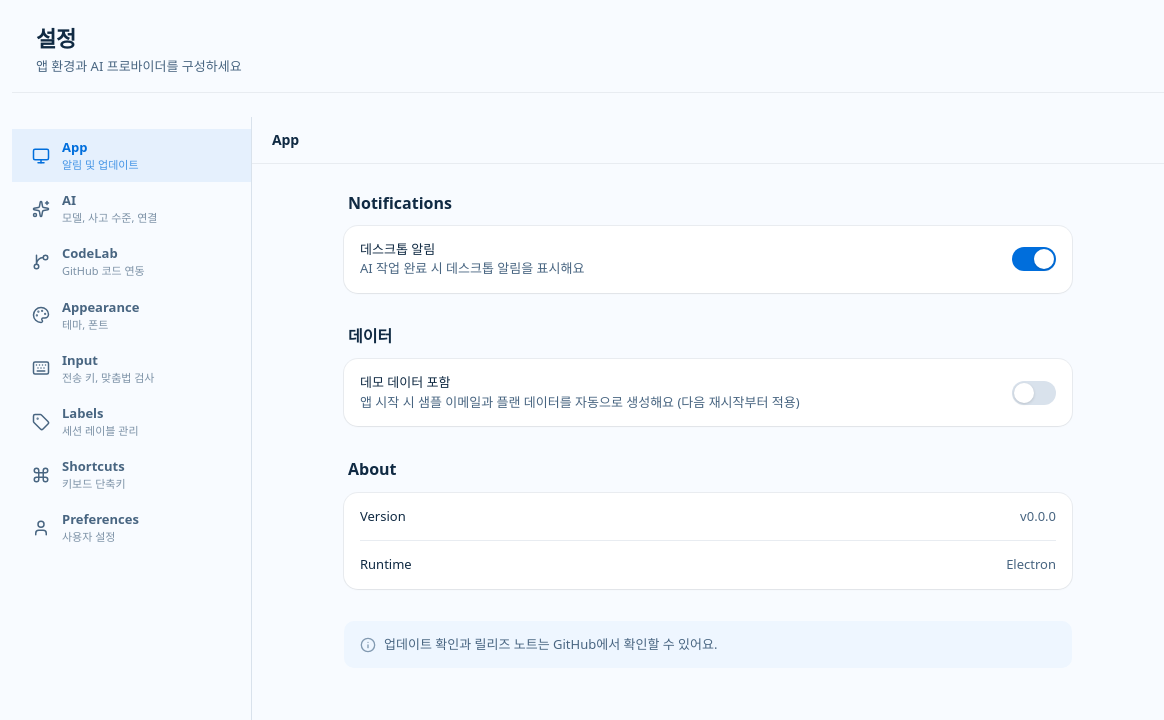
Test: SettingsPage › AI 카테고리 클릭 시 AI 패널을 표시한다
The width and height of the screenshot is (1164, 720).
Click the button "AI 모델, 사고 수준, 연결" at (132, 209), box [12,182,251,236]
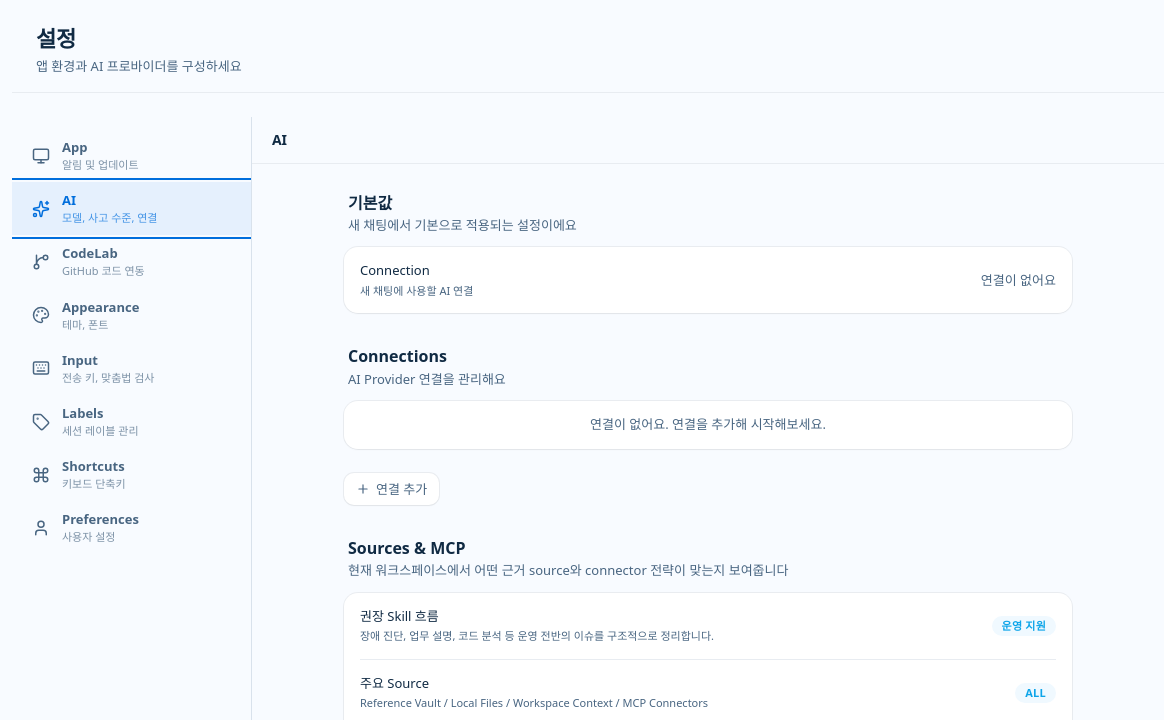
Expected: the heading "AI" is shown, [272,131,287,149]
Expected: the heading "기본값" is shown, [348,192,392,214]
Expected: the heading "Connections" is shown, [348,346,447,368]
